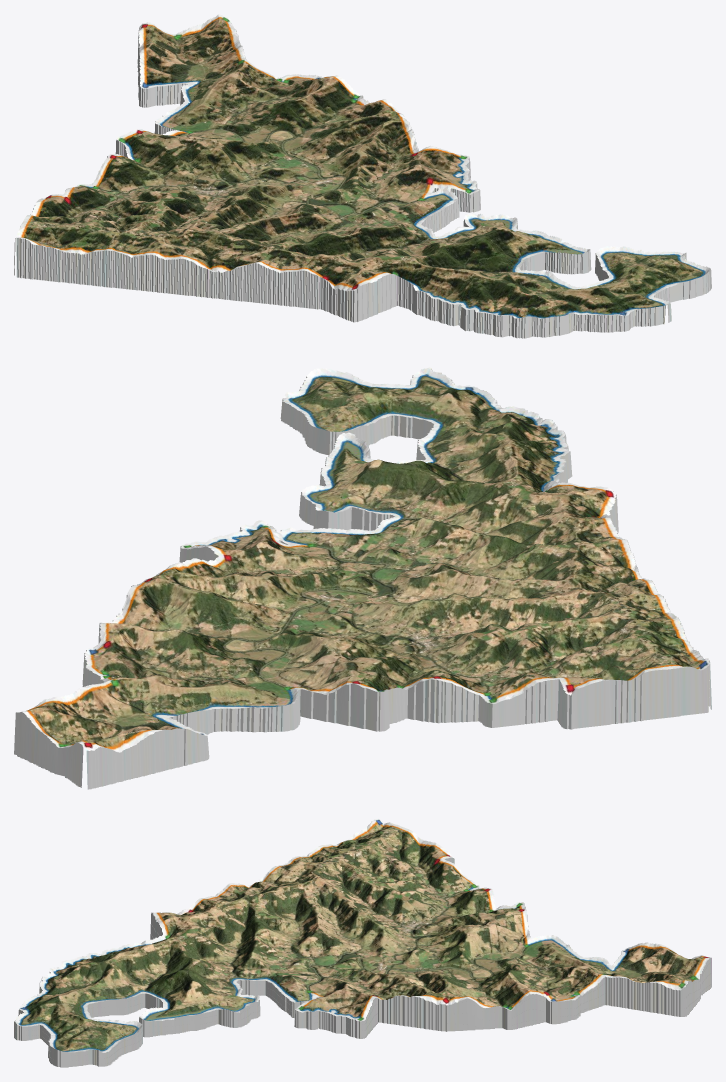
3 views of the same model, one above another, from view 1: azimuth 30°, elevation 25°; view 2: azimuth 150°, elevation 25°; view 3: azimuth 270°, elevation 25° (orthographic). The views are drawn at different scales.
Bounding box in the file's own units: 0.9999 × 0.0743 × 1.37.
1 material, 1 textured.
